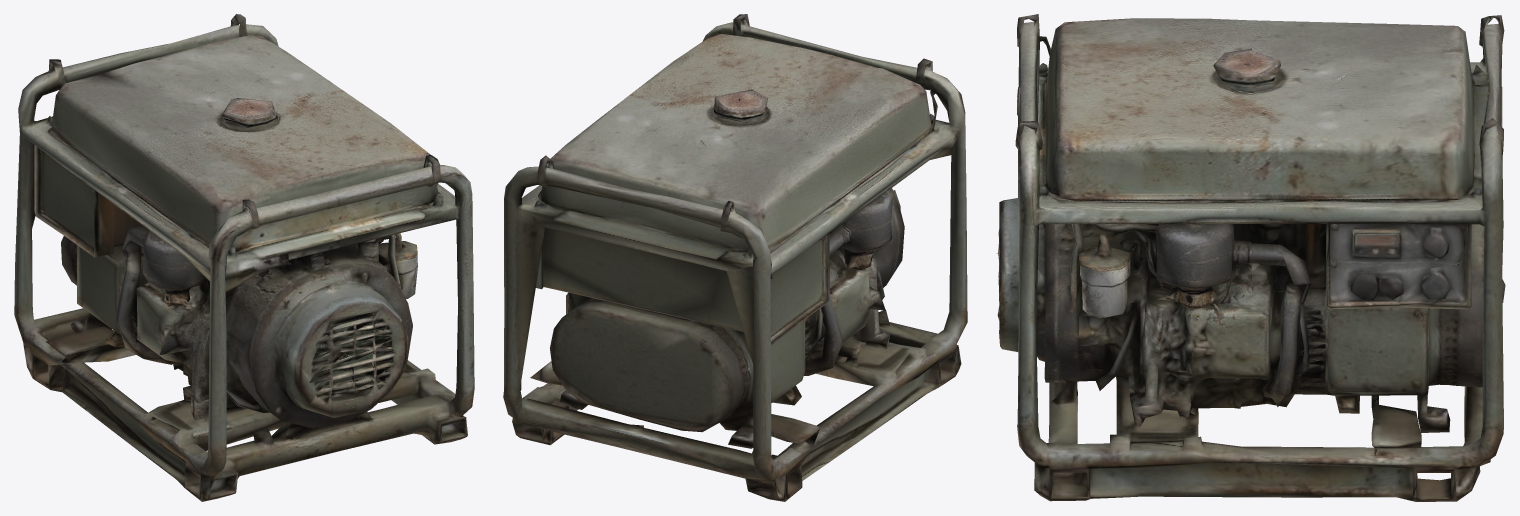
File: generator.glb
The picture shows the model from 3 angles, left to right: view 1: azimuth 30°, elevation 25°; view 2: azimuth 150°, elevation 25°; view 3: azimuth 270°, elevation 25°; orthographic projection. The views are drawn at different scales.
Parts seen in each view (by area): view 1: tripo_node_717a6ebc-44af-46c1-b2c5-b332cb01f7b7; view 2: tripo_node_717a6ebc-44af-46c1-b2c5-b332cb01f7b7; view 3: tripo_node_717a6ebc-44af-46c1-b2c5-b332cb01f7b7.
Part boxes in pixels (x1,y1,x2,y2): tripo_node_717a6ebc-44af-46c1-b2c5-b332cb01f7b7: [14, 14, 474, 501]; tripo_node_717a6ebc-44af-46c1-b2c5-b332cb01f7b7: [503, 14, 967, 501]; tripo_node_717a6ebc-44af-46c1-b2c5-b332cb01f7b7: [997, 14, 1505, 501].
Size of the model in its own units: 1.29 by 1.4 by 1.77.
1 material, 1 textured.
